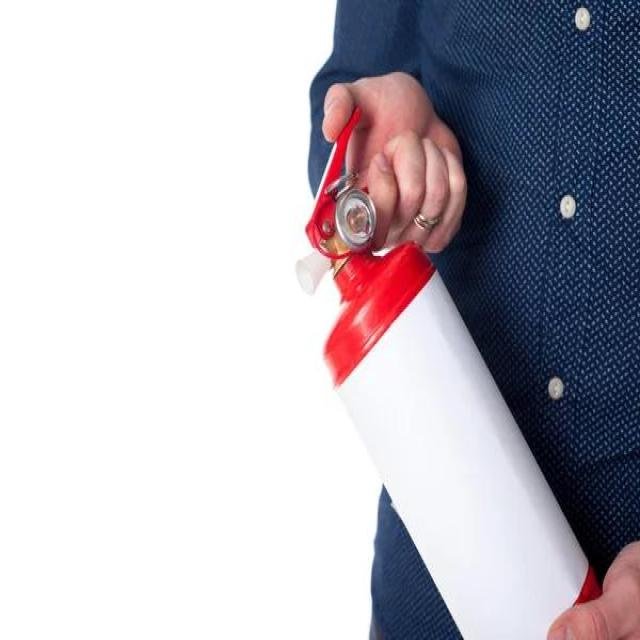fire_extinguisher: (290, 101, 628, 638)
